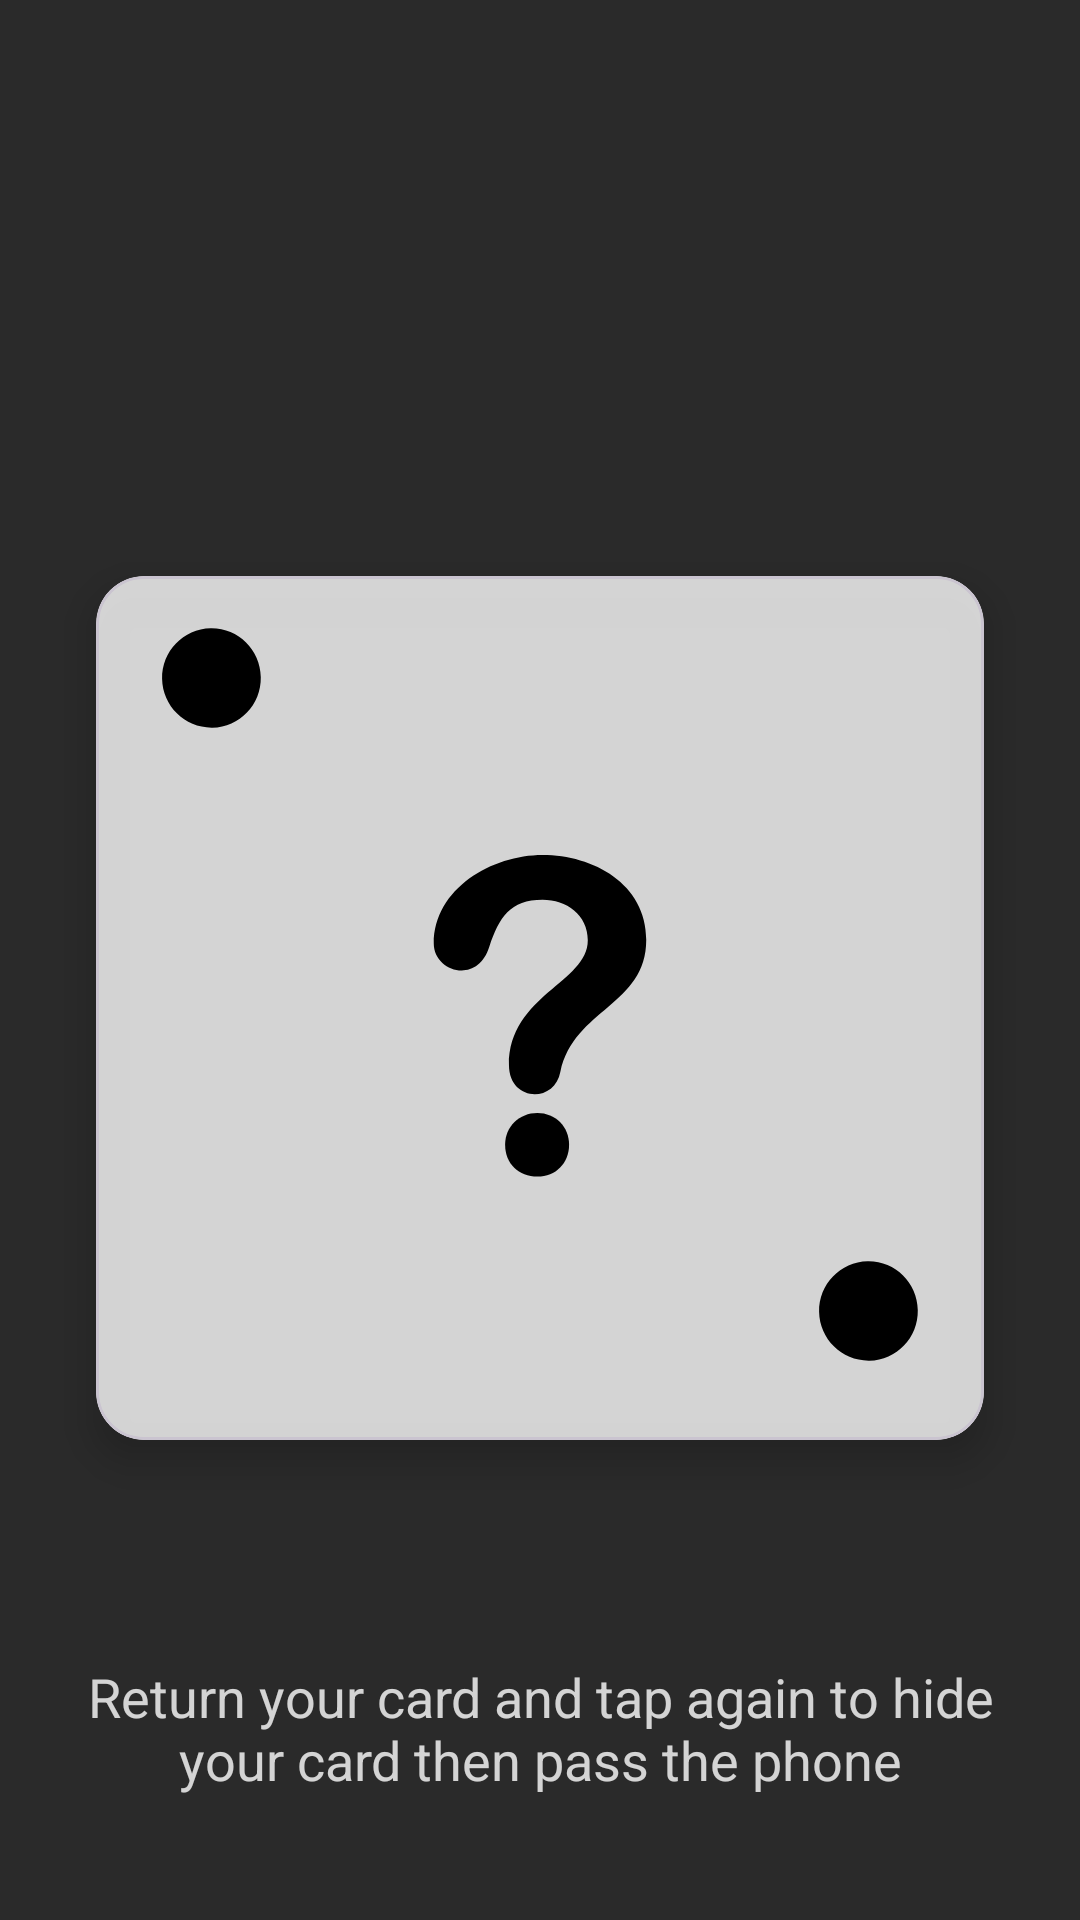

Where to tap for icons on this 1080 x 1920 app screen, as [x,y]:
question mark: [540,1016]
